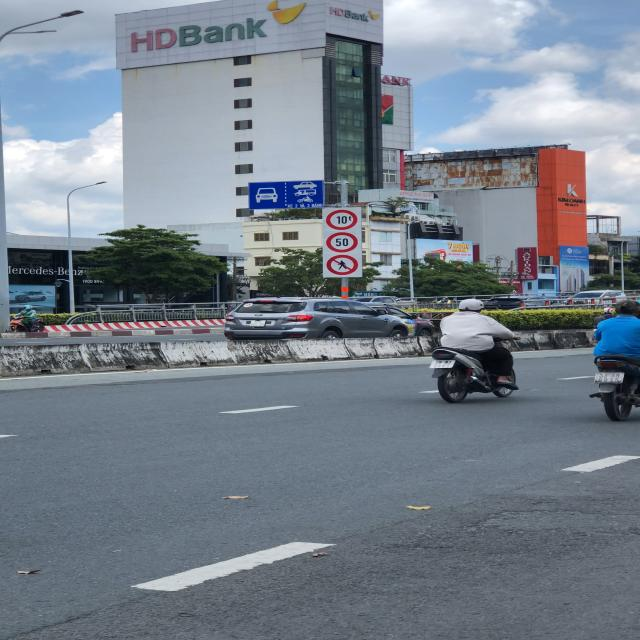Bien bao cam nguoi di bo: (324, 254, 360, 277)
Bien bao toc do toi da cho phep: (324, 231, 362, 253)
